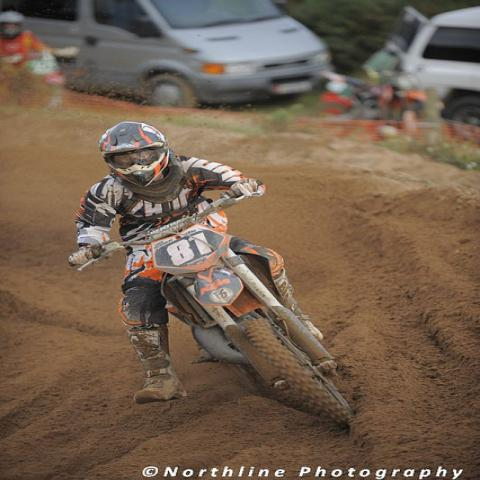car: (0, 0, 334, 109), (395, 4, 479, 130)
motorcycle: (57, 172, 356, 434), (318, 65, 429, 122)
